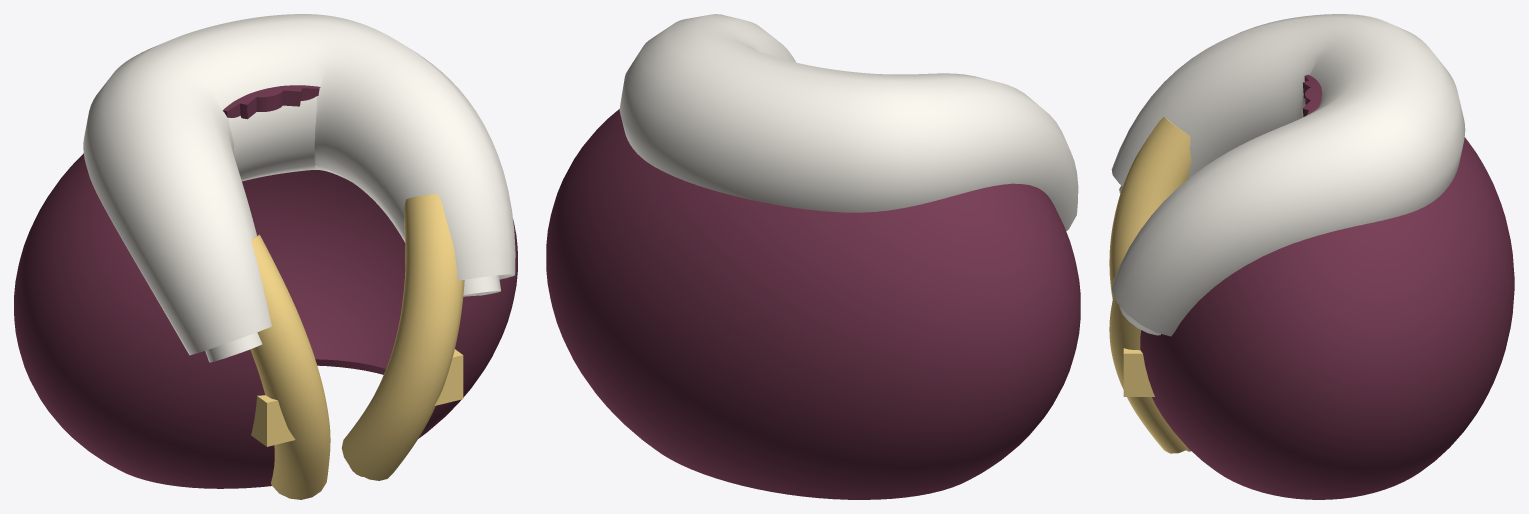
The model's file is sett_jacket.glb.
The picture shows the model from 3 angles, left to right: view 1: azimuth 30°, elevation 25°; view 2: azimuth 150°, elevation 25°; view 3: azimuth 270°, elevation 25°; orthographic projection. The views are drawn at different scales.
Parts seen in each view (by area): view 1: sett_jacket; view 2: sett_jacket; view 3: sett_jacket.
Boxes of the visible parts, x1,y1,x2,y2 form: sett_jacket: (14, 14, 517, 499); sett_jacket: (546, 14, 1080, 499); sett_jacket: (1109, 14, 1514, 499).
Size of the model in its own units: 0.6396 by 0.5005 by 0.4922.
